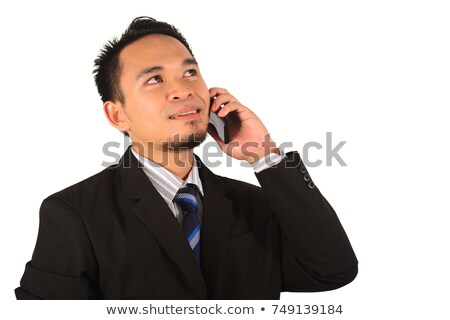phone: (197, 83, 237, 147)
talk: (132, 53, 260, 162)
